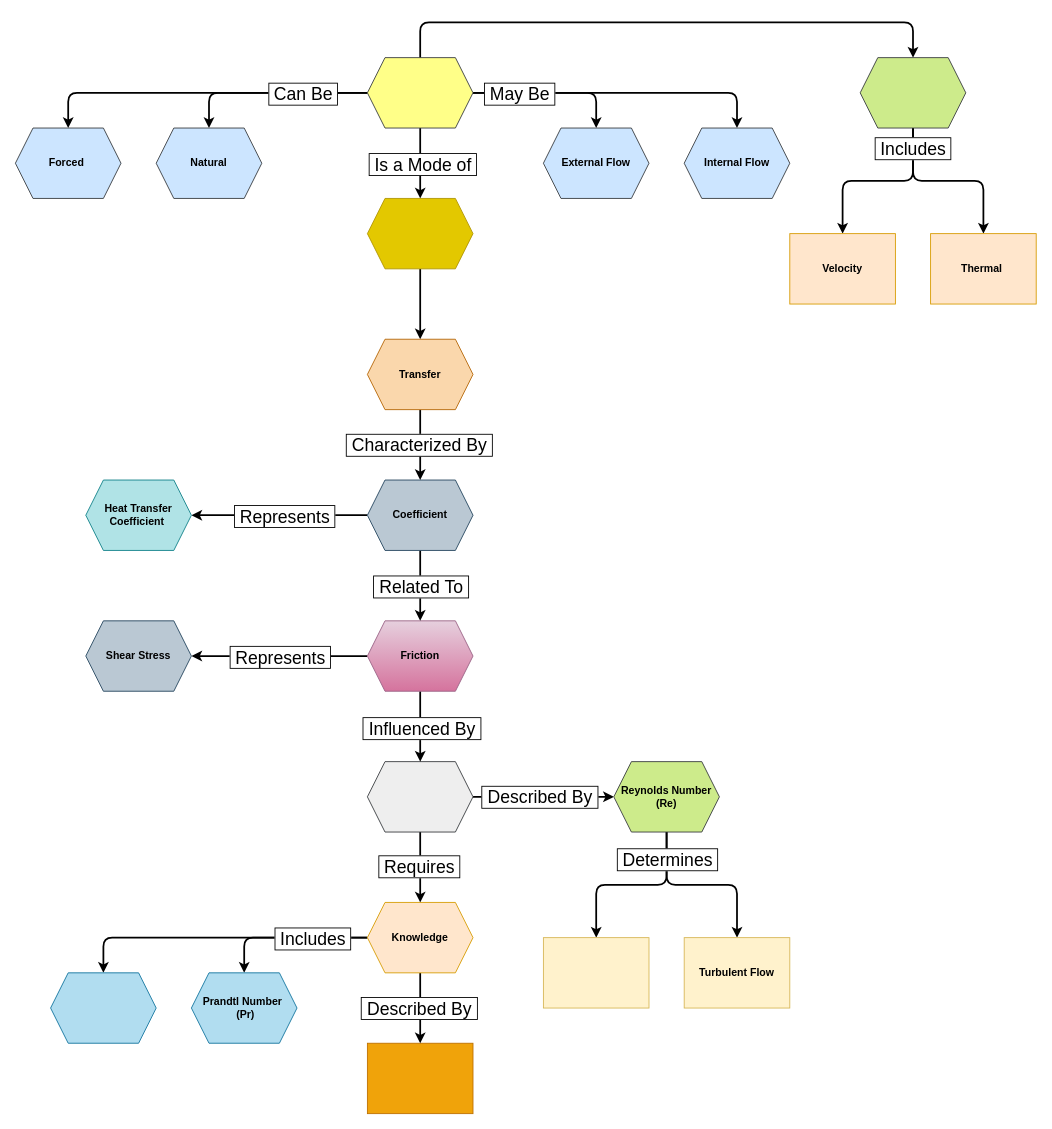
Image size: 1052x1129. Some labels were removed from this diagram. The centre of each missing label's shape, as x and y in pixels:
Boundary Layers: the point at 912,92
Convection: the point at 420,92
Functional: the point at 420,1078
Heat: the point at 420,233
Laminar Flow: the point at 596,972
Momentum: the point at 420,796
Nusselt Number (Nu): the point at 103,1007
